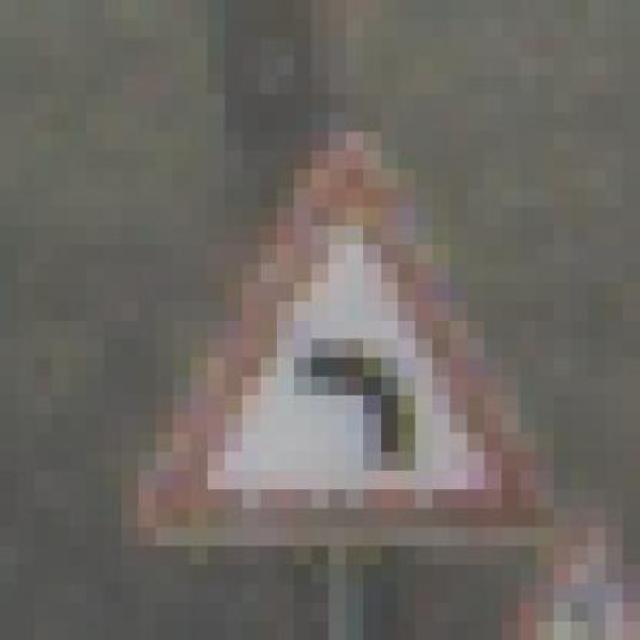Dangerous Left Curve Ahead: (119, 128, 552, 562)
